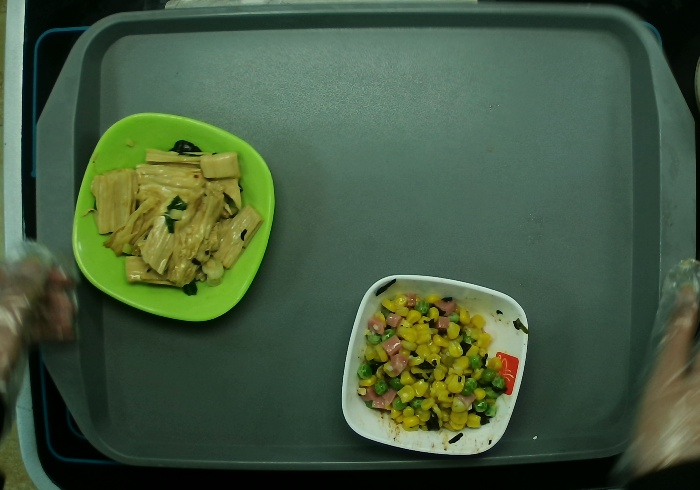SHKJ-Bai_Se_Xiao_Fang_Die: (339, 271, 534, 458)
SHKJ-Lv_Se_Cai_Die: (66, 110, 279, 322)
